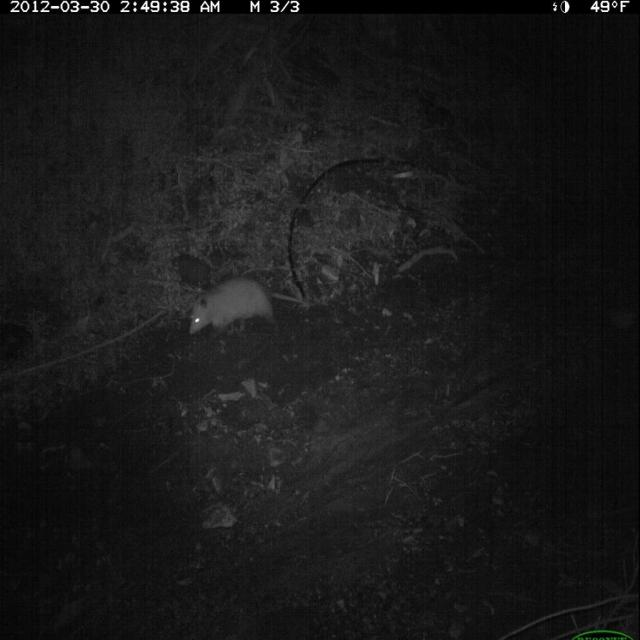opossum: (185, 269, 323, 350)
